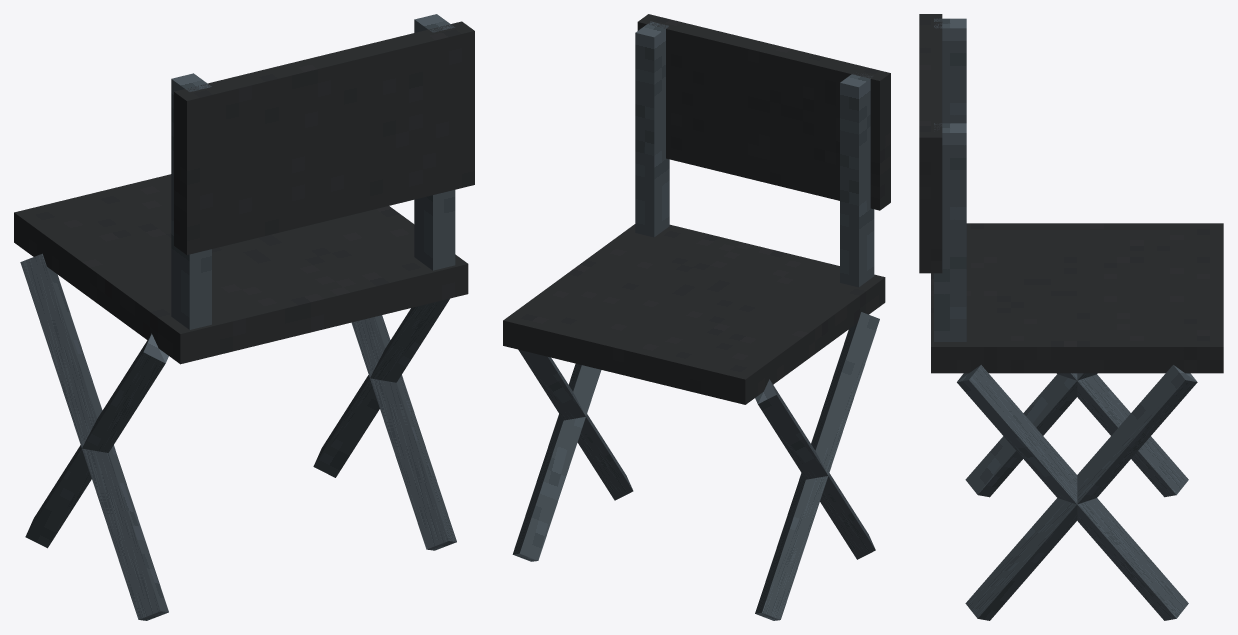
File: f_chair_folding.glb
3 renders of one model, left to right at view 1: azimuth 30°, elevation 25°; view 2: azimuth 150°, elevation 25°; view 3: azimuth 270°, elevation 25°, orthographic. The views are drawn at different scales.
Parts seen in each view (by area): view 1: block_back-panel, block_seat, block_folding-leg--0.225-1, block_folding-leg-0.225-1, block_folding-leg--0.225--1, block_folding-leg-0.225--1, block_upright--0.19, block_upright-0.19; view 2: block_seat, block_back-panel, block_folding-leg--0.225--1, block_upright-0.19, block_upright--0.19, block_folding-leg-0.225--1, block_folding-leg--0.225-1, block_folding-leg-0.225-1; view 3: block_seat, block_folding-leg-0.225--1, block_folding-leg-0.225-1, block_back-panel, block_upright-0.19, block_folding-leg--0.225--1, block_folding-leg--0.225-1, block_upright--0.19.
Boxes of the visible parts, x1=… form: block_back-panel: x1=174, y1=21, x2=474, y2=254; block_seat: x1=14, y1=174, x2=468, y2=364; block_folding-leg--0.225-1: x1=20, y1=253, x2=168, y2=620; block_folding-leg-0.225-1: x1=351, y1=315, x2=456, y2=550; block_folding-leg--0.225--1: x1=25, y1=333, x2=168, y2=548; block_folding-leg-0.225--1: x1=313, y1=298, x2=449, y2=477; block_upright--0.19: x1=171, y1=73, x2=211, y2=329; block_upright-0.19: x1=414, y1=14, x2=455, y2=270; block_seat: x1=503, y1=224, x2=885, y2=404; block_back-panel: x1=637, y1=14, x2=890, y2=210; block_folding-leg--0.225--1: x1=755, y1=312, x2=879, y2=620; block_upright-0.19: x1=635, y1=21, x2=669, y2=237; block_upright--0.19: x1=840, y1=74, x2=874, y2=287; block_folding-leg-0.225--1: x1=512, y1=363, x2=601, y2=561; block_folding-leg--0.225-1: x1=755, y1=379, x2=875, y2=559; block_folding-leg-0.225-1: x1=518, y1=349, x2=633, y2=500; block_seat: x1=931, y1=223, x2=1223, y2=373; block_folding-leg-0.225--1: x1=957, y1=365, x2=1188, y2=620; block_folding-leg-0.225-1: x1=965, y1=365, x2=1197, y2=620; block_back-panel: x1=919, y1=14, x2=942, y2=273; block_upright-0.19: x1=934, y1=123, x2=966, y2=341; block_folding-leg--0.225--1: x1=1057, y1=373, x2=1188, y2=497; block_folding-leg--0.225-1: x1=965, y1=373, x2=1097, y2=497; block_upright--0.19: x1=934, y1=18, x2=966, y2=123.
Bounding box in the file's own units: 0.498 × 0.8199 × 0.4675.
Materials: 1 (1 with a texture image).
